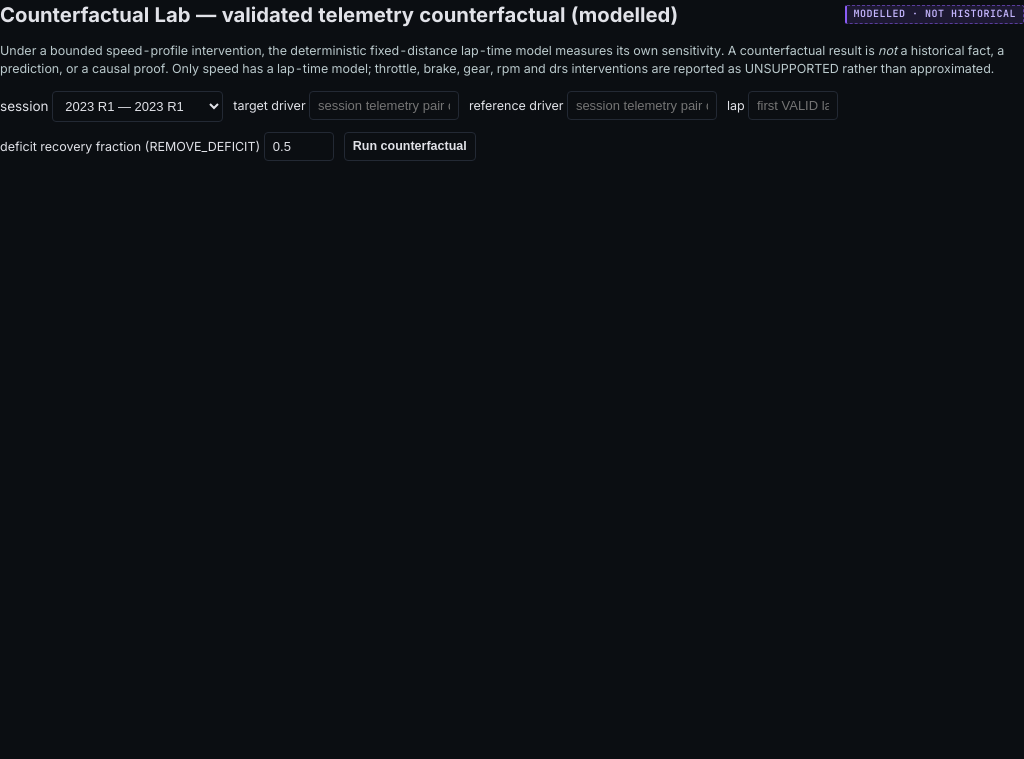
Test: CounterfactualView (Stitch Counterfactual Lab) › renders the real sensitivity sweep and its classification
What coordinates should you click on to do the following:
click the button "Run counterfactual"
I would click on:
 (410, 146)
Its box is [344, 132, 476, 161].
(page scrolled)
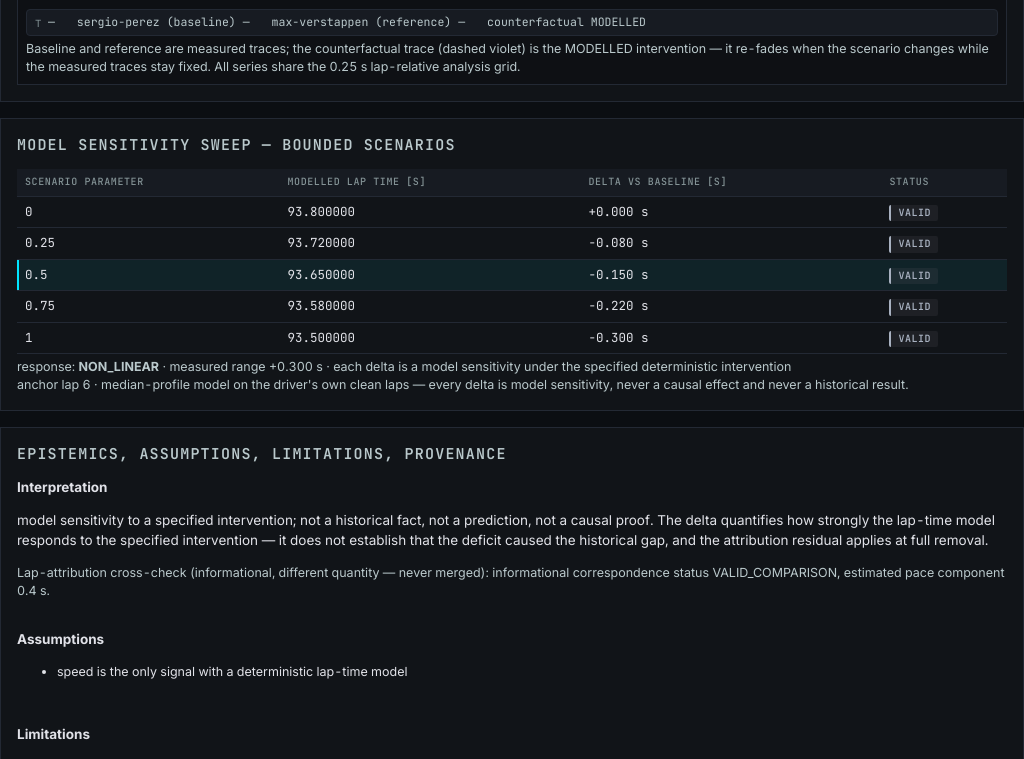
Check: the heading "Model sensitivity sweep — bounded scenarios" is shown, box [17, 135, 456, 155]
Check: the text "93.720000" is shown, box [279, 228, 580, 259]
Check: the text "NON_LINEAR" is shown, box [78, 359, 159, 374]
